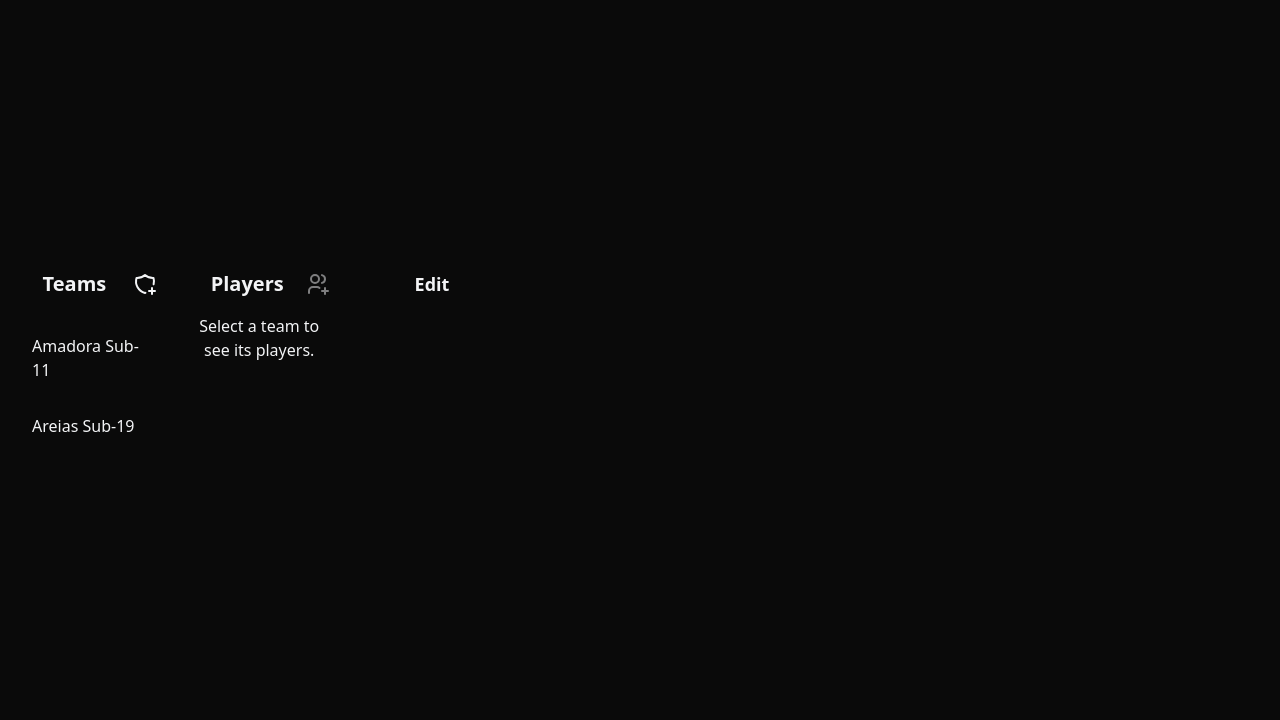
adding a player to the selected team refreshes the players list immediately
Click the button "Amadora Sub-11". click: click(86, 358)
box: [16,322,157,394]
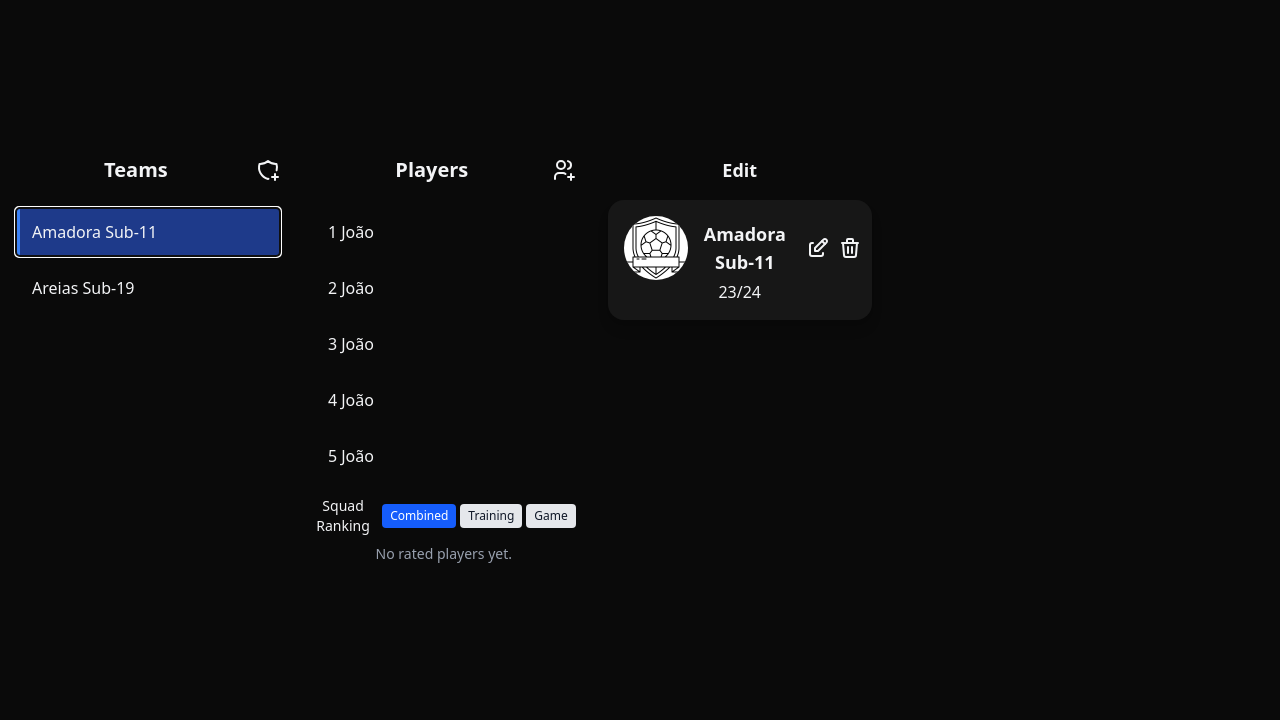
Click the button with class "tabler-icon-users-plus". click: click(564, 170)
box: [552,158,576,182]
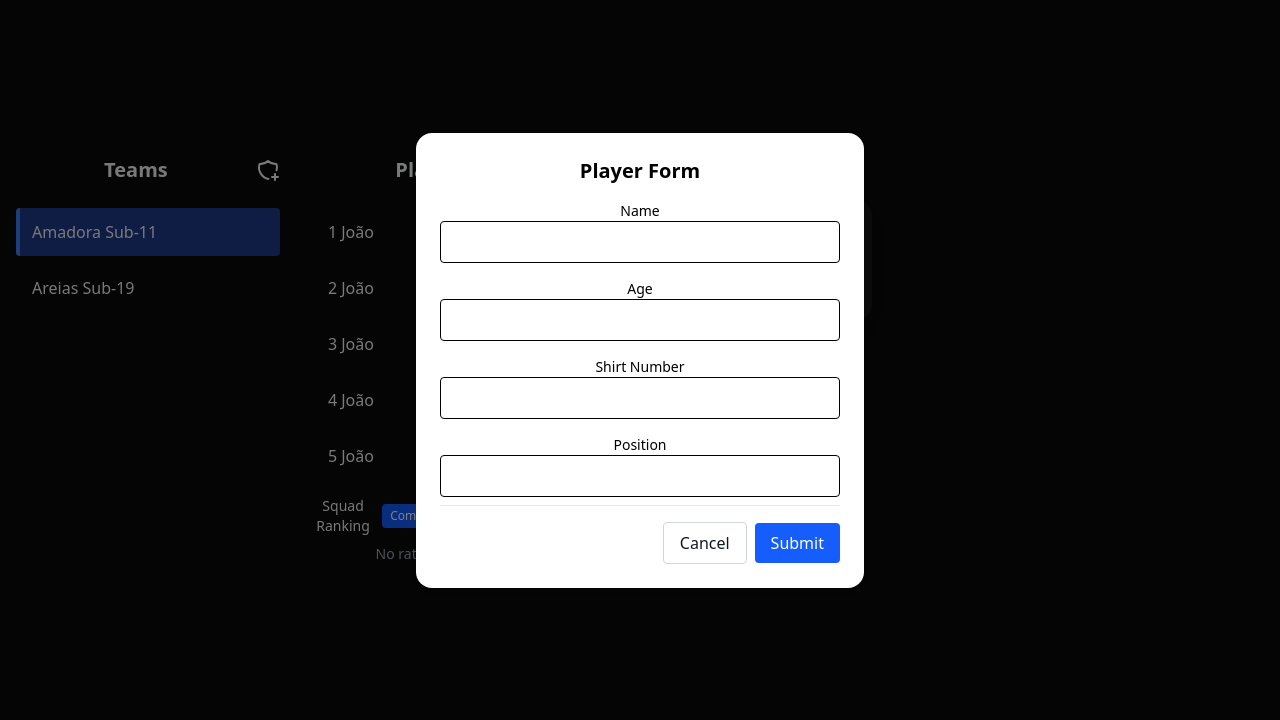
Type "TestPlayer" into the field labelled "Name". click: (640, 242)
box: [440,220,840,262]
Type "16" into the number field labelled "Age". click: (640, 320)
box: [440,298,840,340]
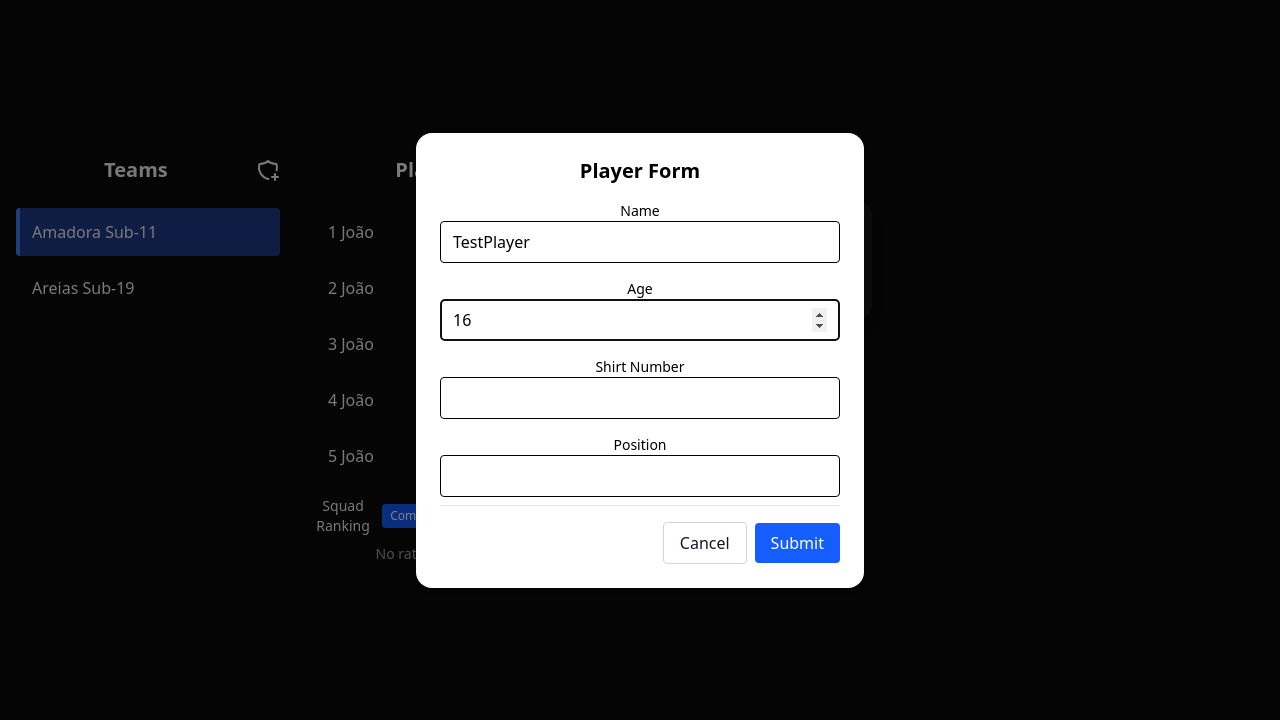
Type "99" into the number field labelled "Shirt Number". click: (640, 398)
box: [440,376,840,418]
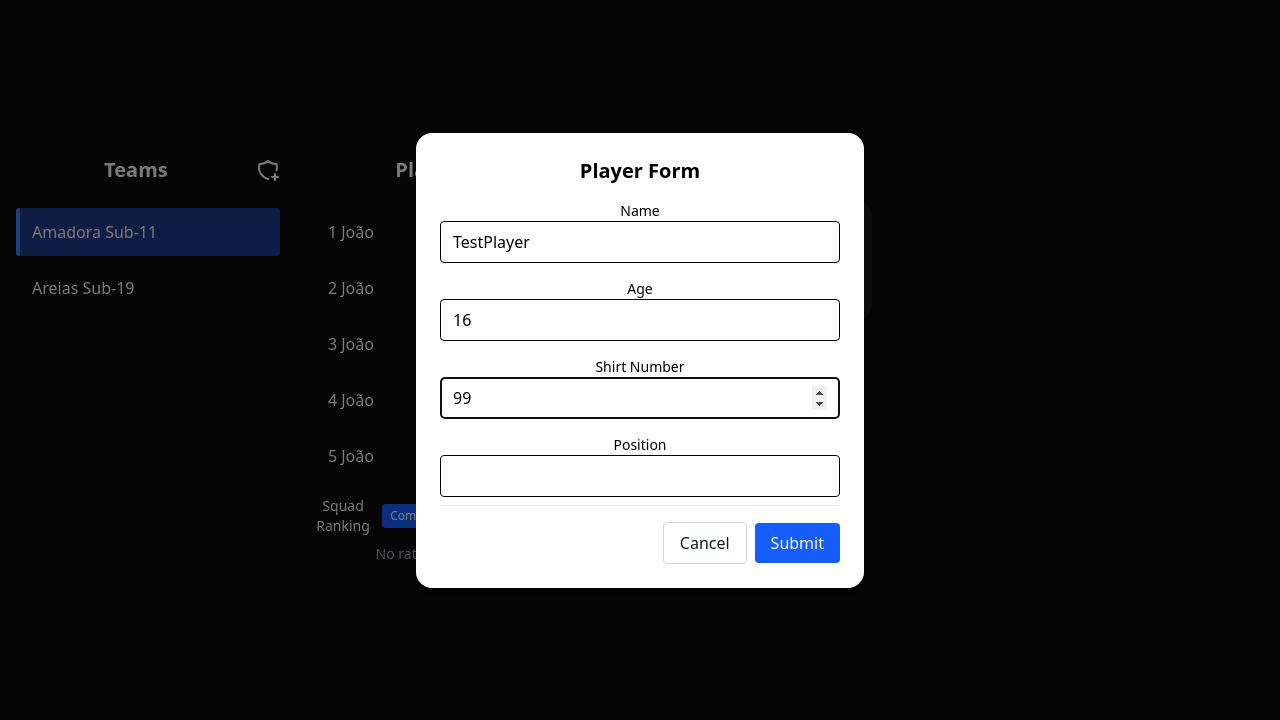
Type "GK" into the field labelled "Position". click: (640, 476)
box: [440,454,840,496]
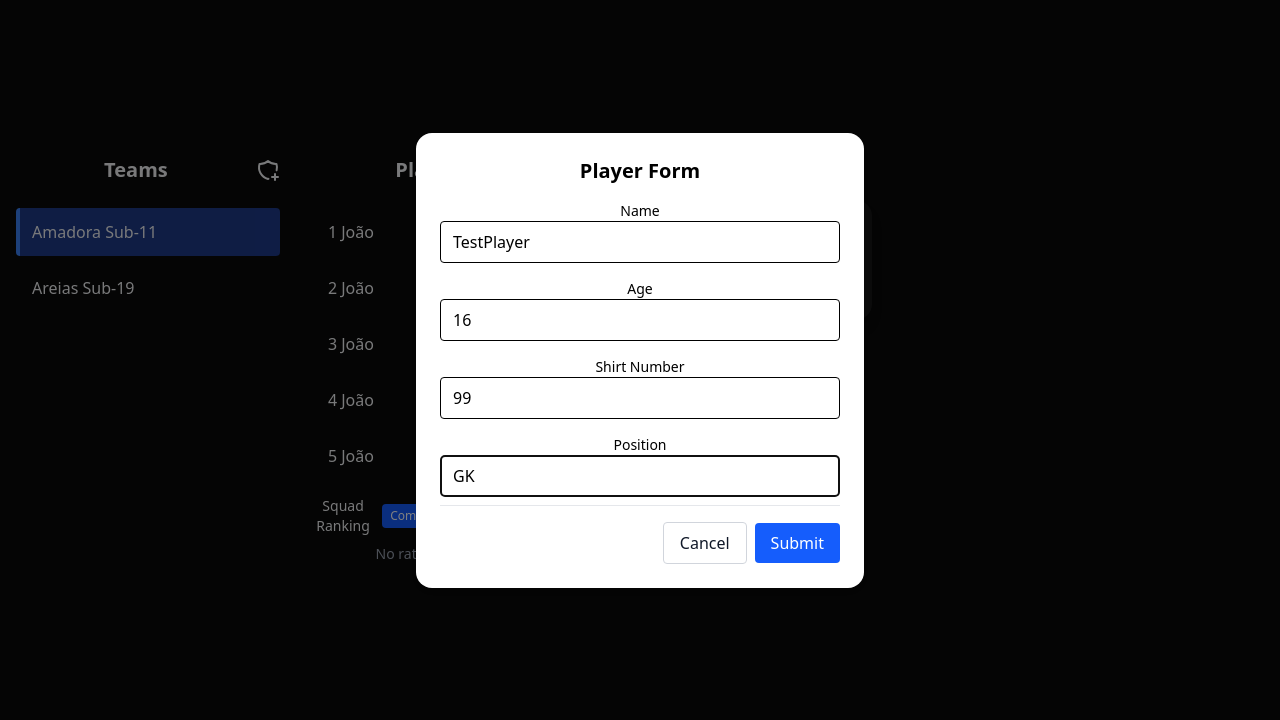
Click the button "Submit". click: click(797, 542)
box: [755,522,840,562]
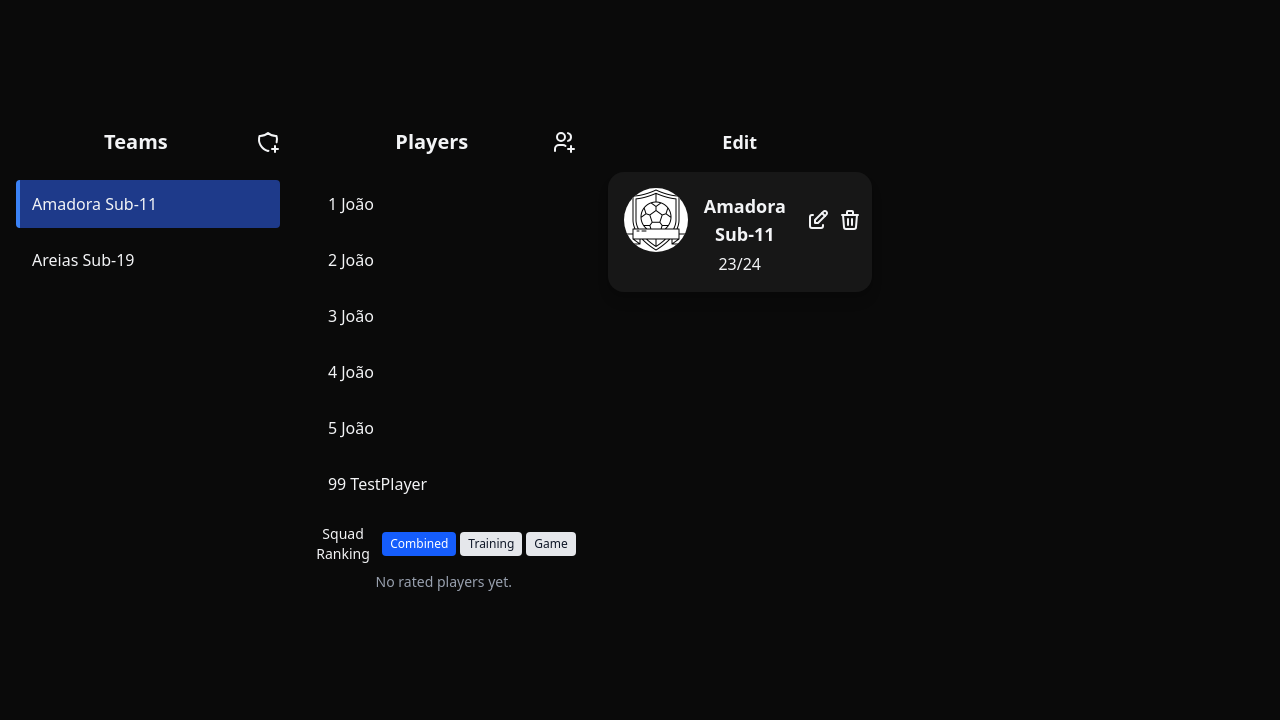
Check: the button "99 TestPlayer" is shown, box [312,460,576,508]
